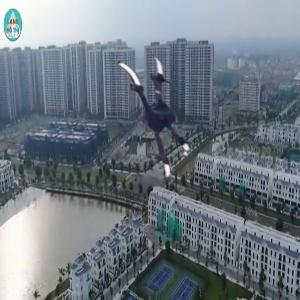drone: (85, 56, 208, 179)
